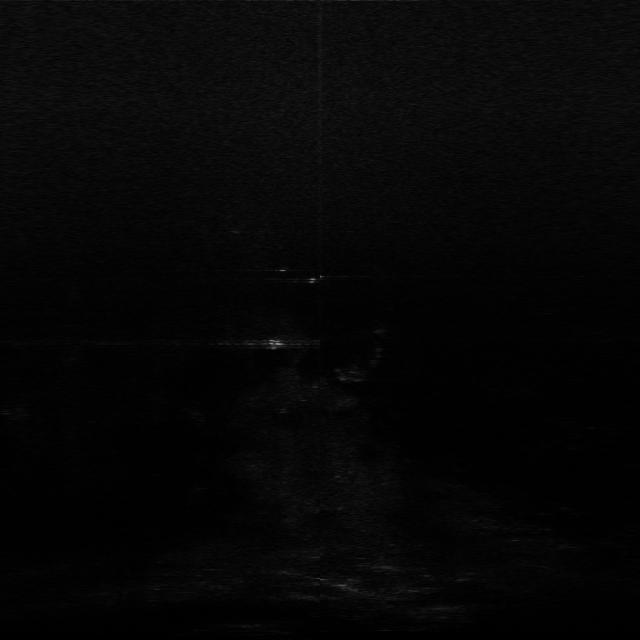rov: (256, 332, 292, 354)
